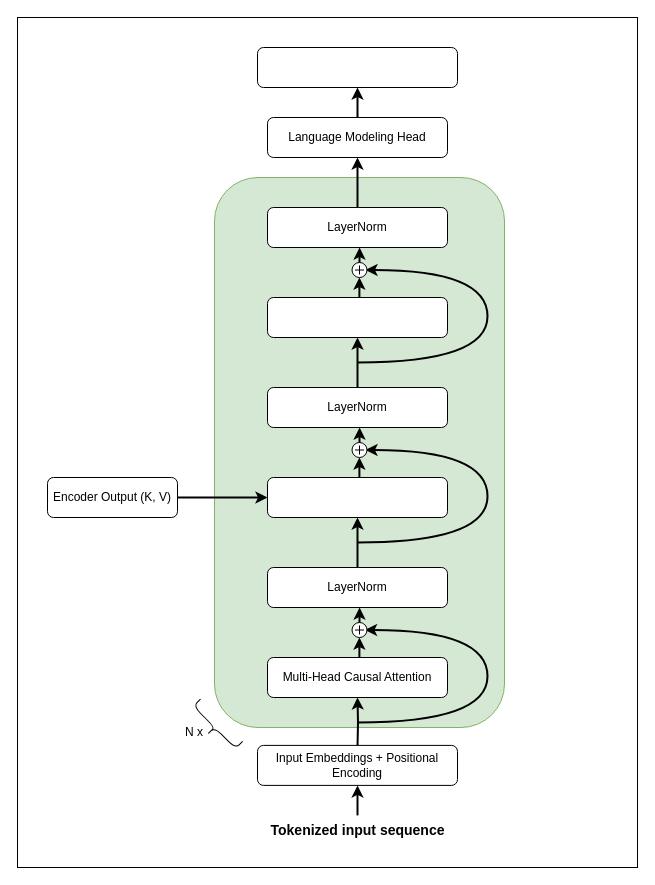
This 655x885 diagram has some shape labels left out. Each missing label, with the box of its shape:
Decoder Output: (256, 46, 458, 88)
Feed Forward: (266, 296, 448, 338)
Multi-Head Cross Attention: (266, 476, 448, 518)
